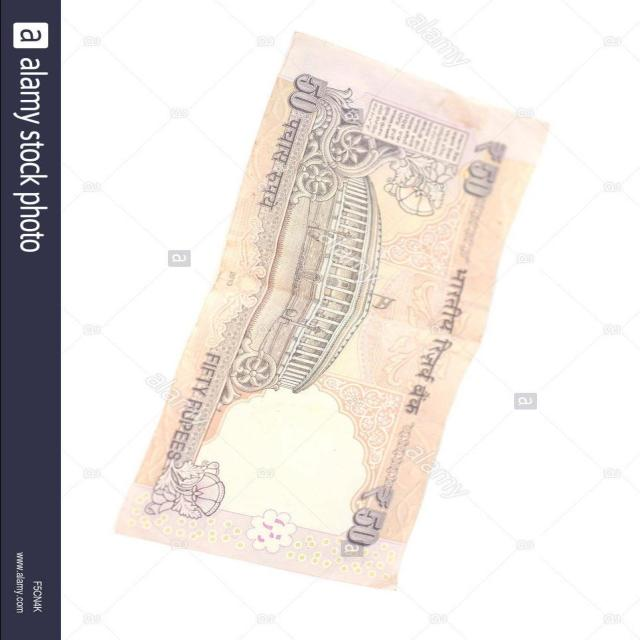50IndianRupees: (103, 37, 546, 592)
